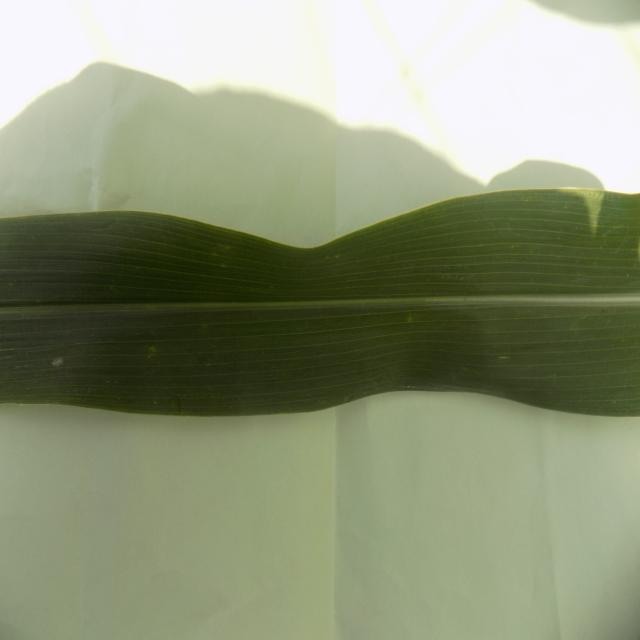millet_healthy: (0, 188, 640, 426)
